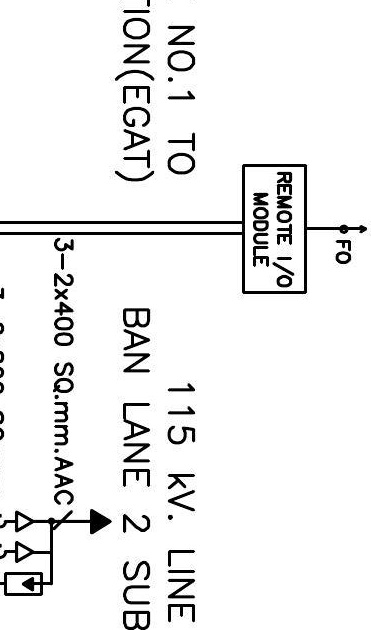remote_io_module: (241, 163, 307, 294)
terminator_double: (14, 509, 54, 564)
